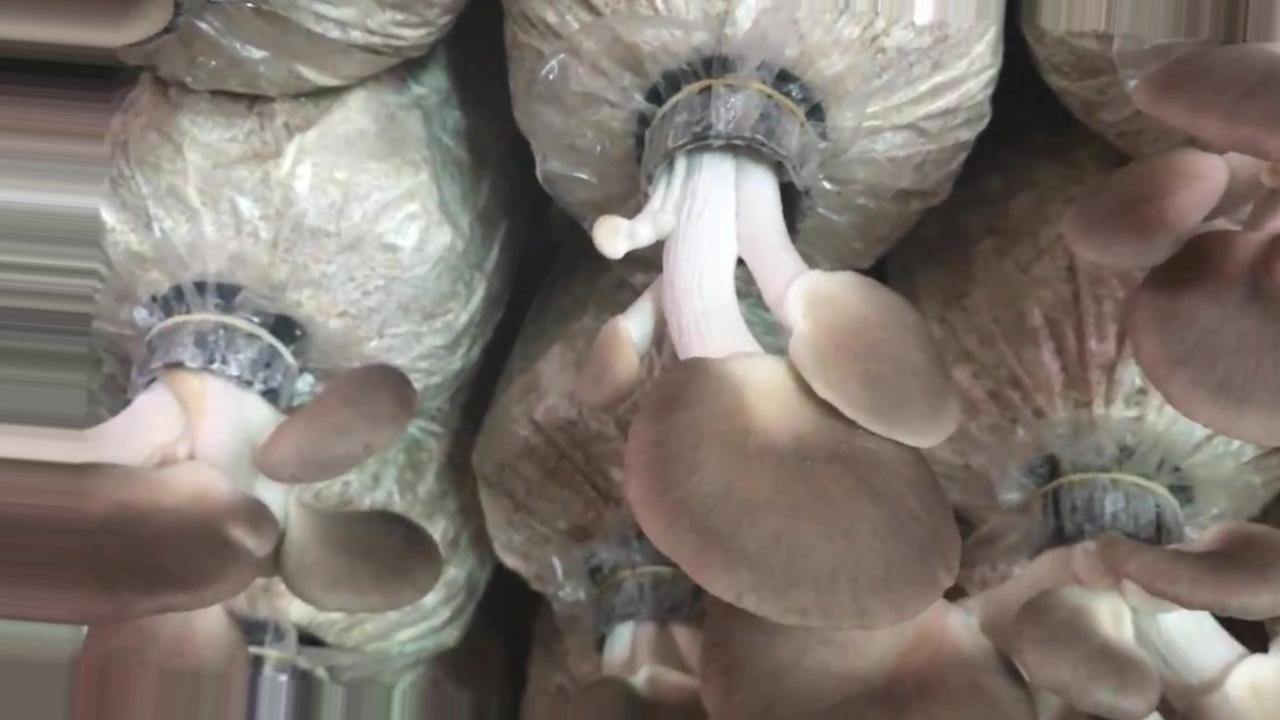nam: (574, 66, 960, 632), (692, 455, 1279, 720), (5, 314, 450, 630), (1066, 31, 1280, 450)
